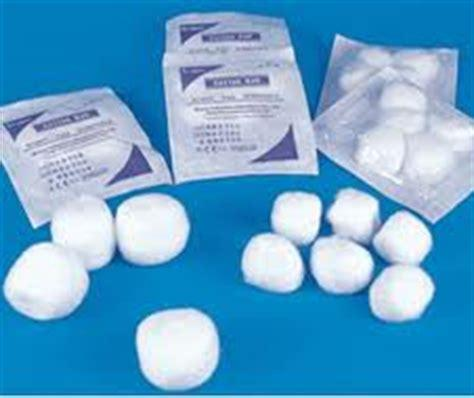cotton: (4, 241, 91, 321), (136, 308, 217, 391), (116, 197, 192, 266), (50, 195, 113, 271), (240, 232, 306, 296), (309, 233, 375, 297), (367, 264, 435, 321), (369, 209, 436, 265), (326, 187, 382, 246), (401, 137, 460, 185), (269, 193, 321, 245), (358, 124, 406, 173), (389, 49, 446, 83), (378, 85, 432, 116), (435, 119, 474, 159), (368, 111, 425, 137), (329, 63, 378, 87), (353, 50, 394, 64)
